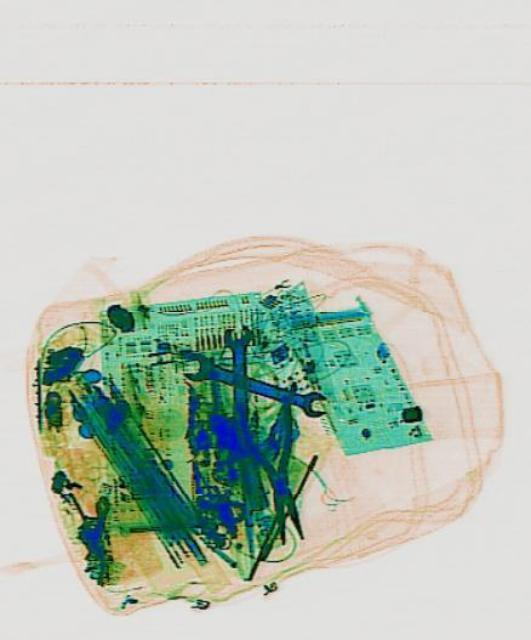Pliers: (234, 388, 315, 548)
Wrench: (181, 348, 328, 419), (222, 322, 251, 424)
